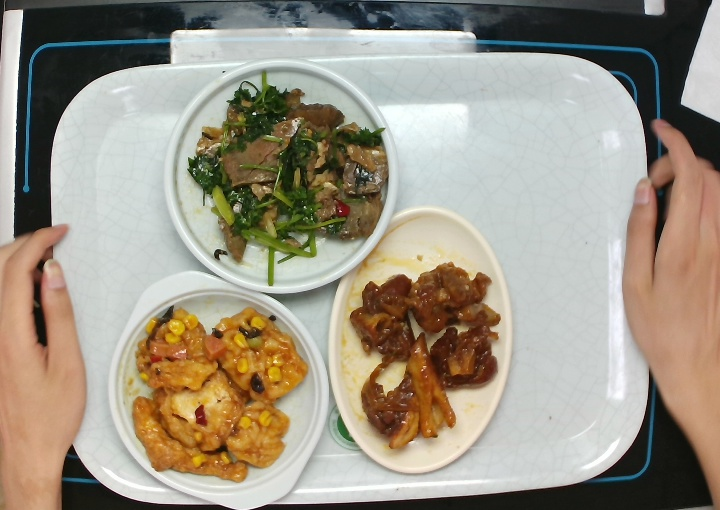JYsf-Shuang_Er_Pan: (105, 268, 334, 510)
JYsf-Tuo_Yuan_Wan: (325, 204, 517, 477)
JYsf-Xiao_Yuan_Pan: (160, 54, 402, 297)
